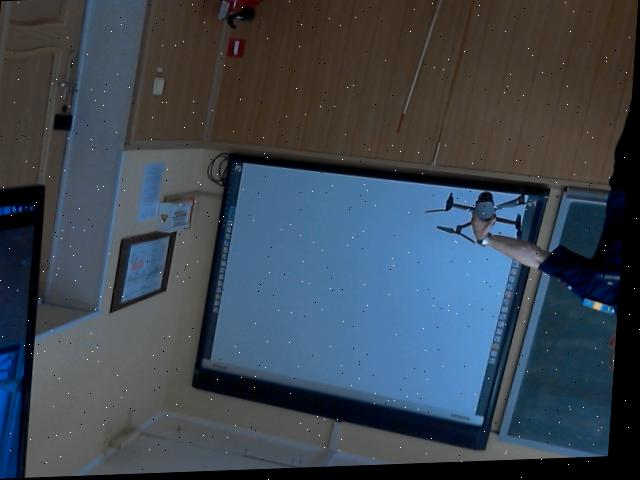drone: (420, 180, 552, 247)
